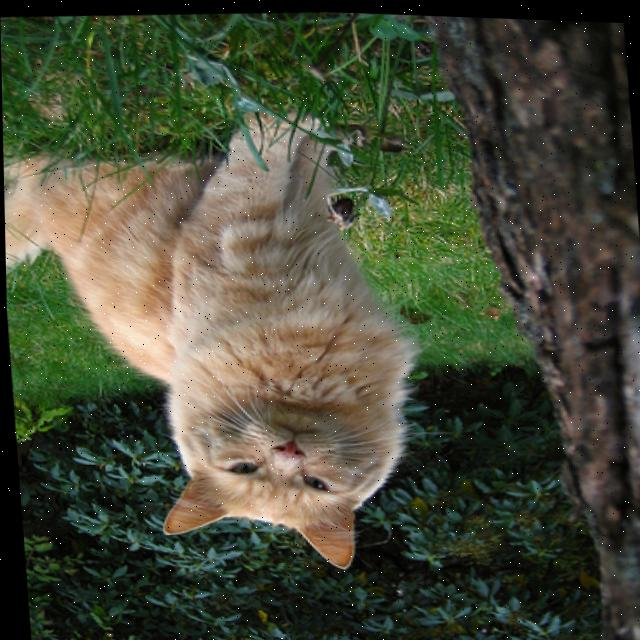Maine Coon: (2, 88, 437, 587)
